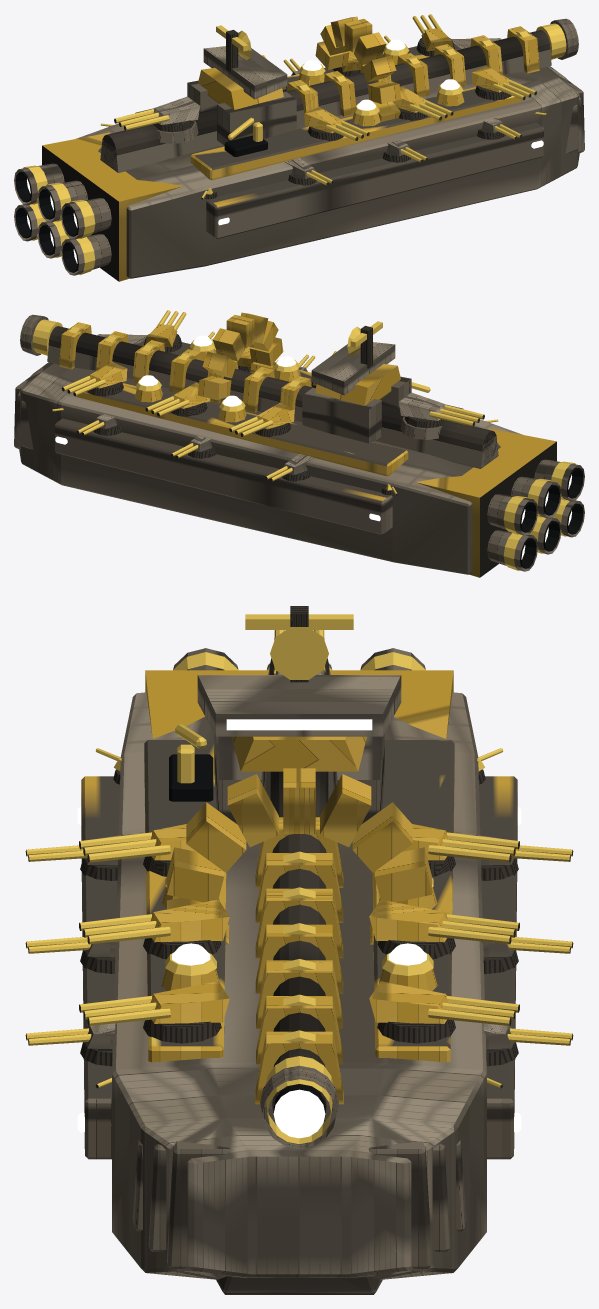
Rendered from battleship.glb.
3 views of the same model, one above another, from view 1: azimuth 30°, elevation 25°; view 2: azimuth 150°, elevation 25°; view 3: azimuth 270°, elevation 25° (orthographic). The views are drawn at different scales.
Visible parts, largest first — view 1: hull_body, weapon_mounts, engine_block, sensor_tower, shield_domes; view 2: hull_body, weapon_mounts, engine_block, sensor_tower, shield_domes; view 3: hull_body, weapon_mounts, sensor_tower, engine_block, shield_domes.
Part boxes in pixels (<box>): hull_body: <box>76,16,584,278</box>; weapon_mounts: <box>100,14,578,199</box>; engine_block: <box>14,132,183,281</box>; sensor_tower: <box>187,25,296,145</box>; shield_domes: <box>298,39,464,126</box>; hull_body: <box>14,312,522,574</box>; weapon_mounts: <box>20,310,498,495</box>; engine_block: <box>415,428,584,577</box>; sensor_tower: <box>302,321,411,443</box>; shield_domes: <box>134,335,300,422</box>; hull_body: <box>77,692,521,1294</box>; weapon_mounts: <box>25,630,573,1148</box>; sensor_tower: <box>197,606,401,824</box>; engine_block: <box>145,648,453,738</box>; shield_domes: <box>161,877,437,990</box>.
Size of the model in its own units: 60 by 20.88 by 27.18.
Materials: 1 (1 with a texture image).
